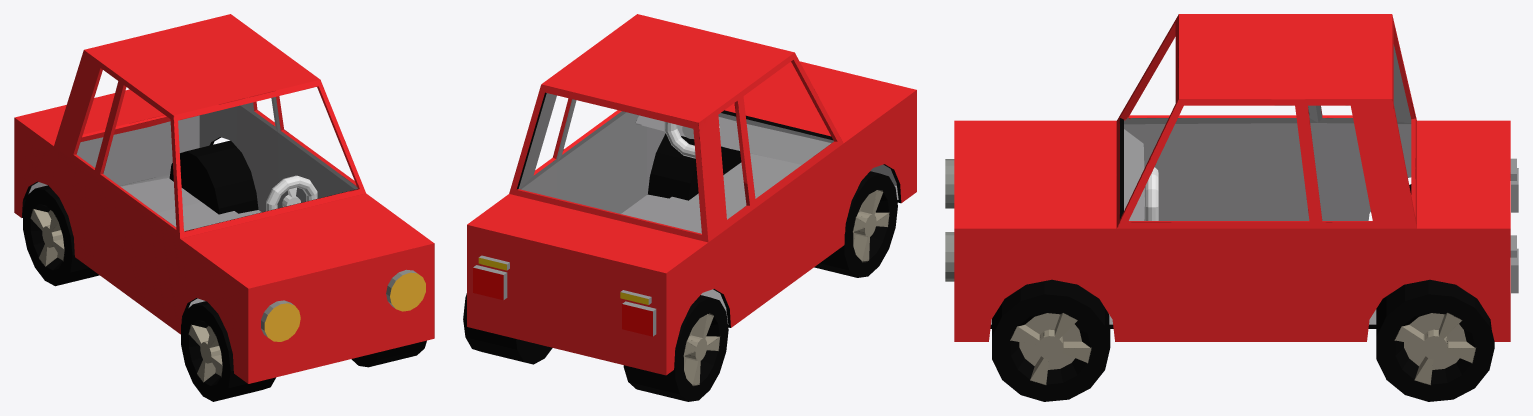
Rendered from carFinalFBX.fbx.
The picture shows the model from 3 angles, left to right: view 1: azimuth 30°, elevation 25°; view 2: azimuth 150°, elevation 25°; view 3: azimuth 270°, elevation 25°; orthographic projection. The views are drawn at different scales.
Parts seen in each view (by area): view 1: carChasis, wheelFR, wheelBL, wheelBR, stearingwheel, wheelFL; view 2: carChasis, wheelBR, wheelFR, wheelFL, wheelBL, stearingwheel; view 3: carChasis, wheelFL, wheelBL, stearingwheel.
Boxes of the visible parts, box(x1,y1,x2,y2) form: carChasis: box(14, 14, 434, 383); wheelFR: box(181, 301, 275, 401); wheelBL: box(169, 140, 258, 214); wheelBR: box(23, 185, 99, 286); stearingwheel: box(266, 175, 317, 211); wheelFL: box(351, 340, 426, 367); carChasis: box(467, 14, 916, 375); wheelBR: box(623, 295, 728, 401); wheelFR: box(814, 171, 897, 277); wheelFL: box(647, 133, 741, 200); wheelBL: box(463, 293, 552, 364); stearingwheel: box(664, 122, 720, 158); carChasis: box(945, 14, 1518, 341); wheelFL: box(992, 279, 1110, 401); wheelBL: box(1376, 279, 1494, 401); stearingwheel: box(1145, 167, 1158, 220).
Bounding box in the file's own units: 211 × 247 × 449.
